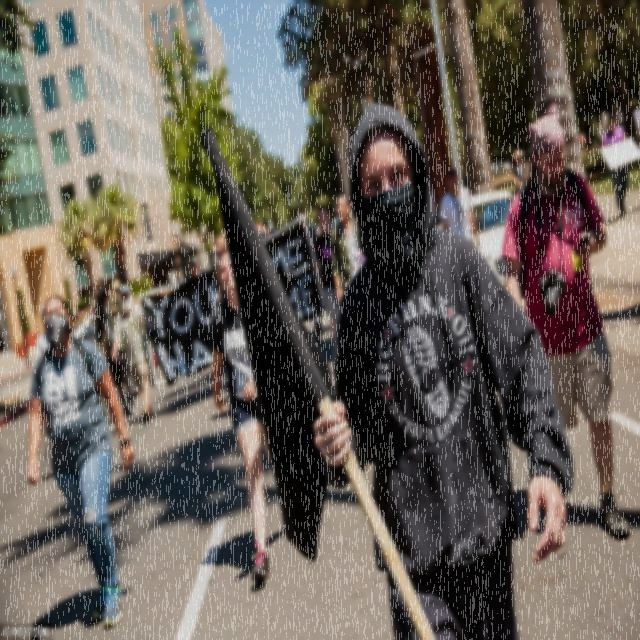pessoa: (308, 101, 578, 639), (500, 99, 631, 542), (24, 292, 138, 630), (208, 250, 276, 582), (183, 213, 320, 280), (110, 284, 154, 424), (96, 284, 140, 418), (310, 202, 346, 344), (329, 192, 367, 304), (598, 109, 632, 218), (438, 166, 481, 252), (510, 144, 534, 220), (110, 274, 132, 312), (128, 368, 142, 401)
